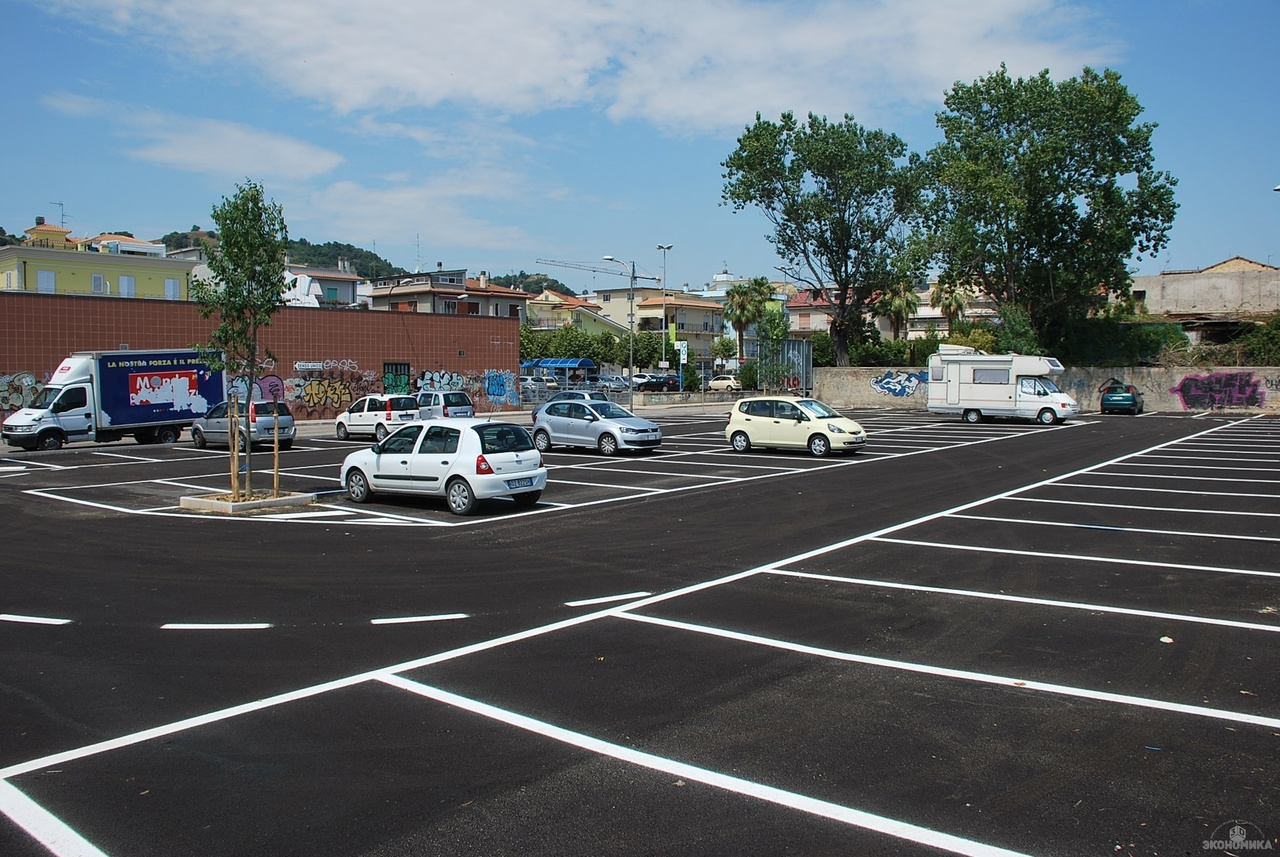Car: (3, 347, 227, 451), (340, 417, 547, 515), (927, 343, 1077, 425), (725, 397, 867, 457), (533, 400, 662, 455), (191, 398, 296, 452), (334, 394, 421, 441), (531, 390, 609, 423), (411, 391, 475, 418), (1100, 384, 1143, 415), (577, 375, 625, 393), (636, 377, 680, 393), (708, 374, 741, 392), (611, 375, 639, 390), (519, 375, 547, 390), (633, 373, 660, 384), (540, 376, 559, 390), (697, 374, 709, 392), (568, 374, 585, 382), (554, 371, 566, 382)
